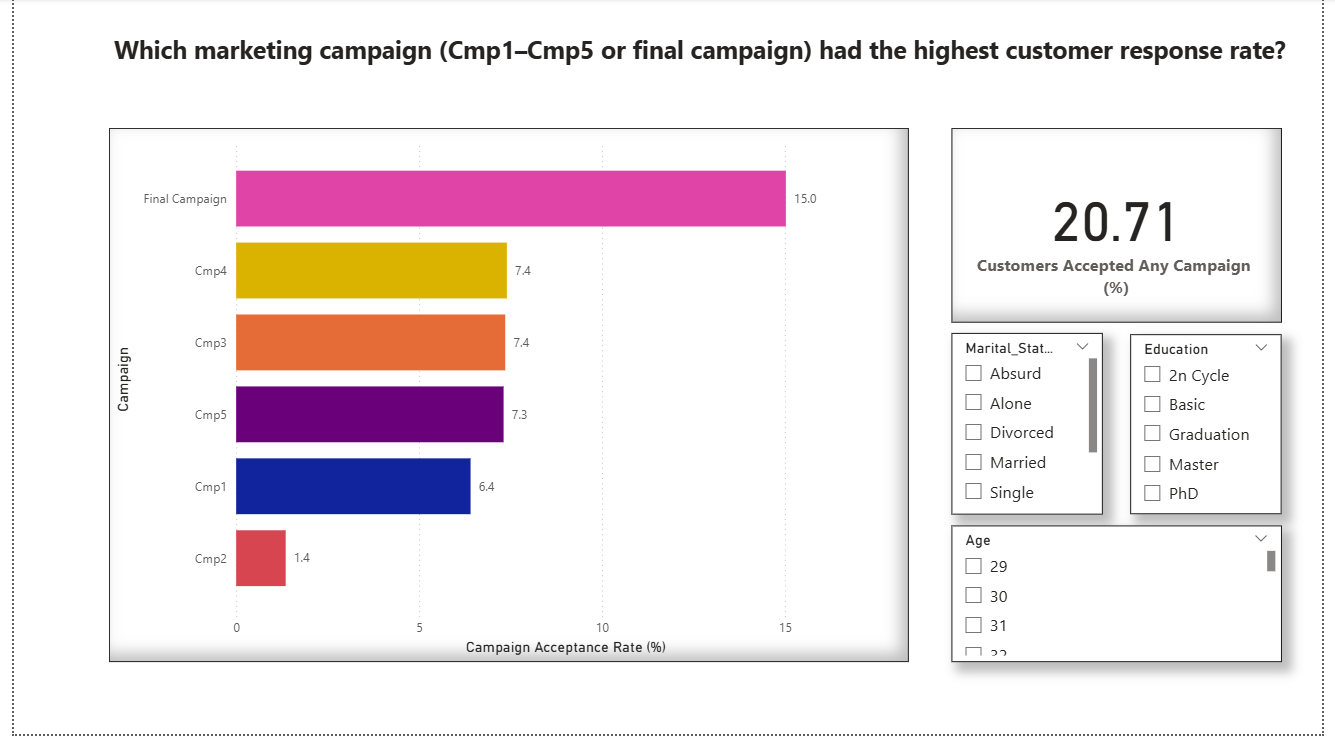

Layout of this report page (visuals, bound fields, positions):
{"tool":"powerbi","page":{"name":"Page 2","canvas":[1280,720],"ordinal":1},"visuals":[{"type":"textbox","box":[93.3,28.8,1187,65.9],"z":0},{"type":"barChart","fields":{"Category":["Campaigns.Campaign"],"Y":["Campaigns.Campaign Acceptance Rate (%)"]},"box":[92.9,127.2,782.6,522.1],"z":1000},{"type":"card","fields":{"Values":["marketing_data.Customers Accepted Any Campaign (%)"]},"box":[917.1,127.2,322.8,190.8],"z":2000},{"type":"slicer","fields":{"Values":["marketing_data.Marital_Status"]},"box":[917.1,327.7,148,177.3],"z":3000},{"type":"slicer","fields":{"Values":["marketing_data.Education"]},"box":[1092,328.9,148,176.1],"z":4000},{"type":"slicer","fields":{"Values":["marketing_data.Age"]},"box":[917.1,516,322.8,133.3],"z":5000}]}

Visuals, with their boxes in screenshot pixels (x1, y1, x2, y2), scaled from the page's 1280x720 canvas onto the 1335x737 screenshot:
textbox: bbox=[97, 29, 1334, 97]
barChart - Campaigns.Campaign x Campaigns.Campaign Acceptance Rate (%): bbox=[97, 130, 913, 665]
card - marketing_data.Customers Accepted Any Campaign (%): bbox=[957, 130, 1293, 326]
slicer - marketing_data.Marital_Status: bbox=[957, 335, 1111, 517]
slicer - marketing_data.Education: bbox=[1139, 337, 1293, 517]
slicer - marketing_data.Age: bbox=[957, 528, 1293, 665]
